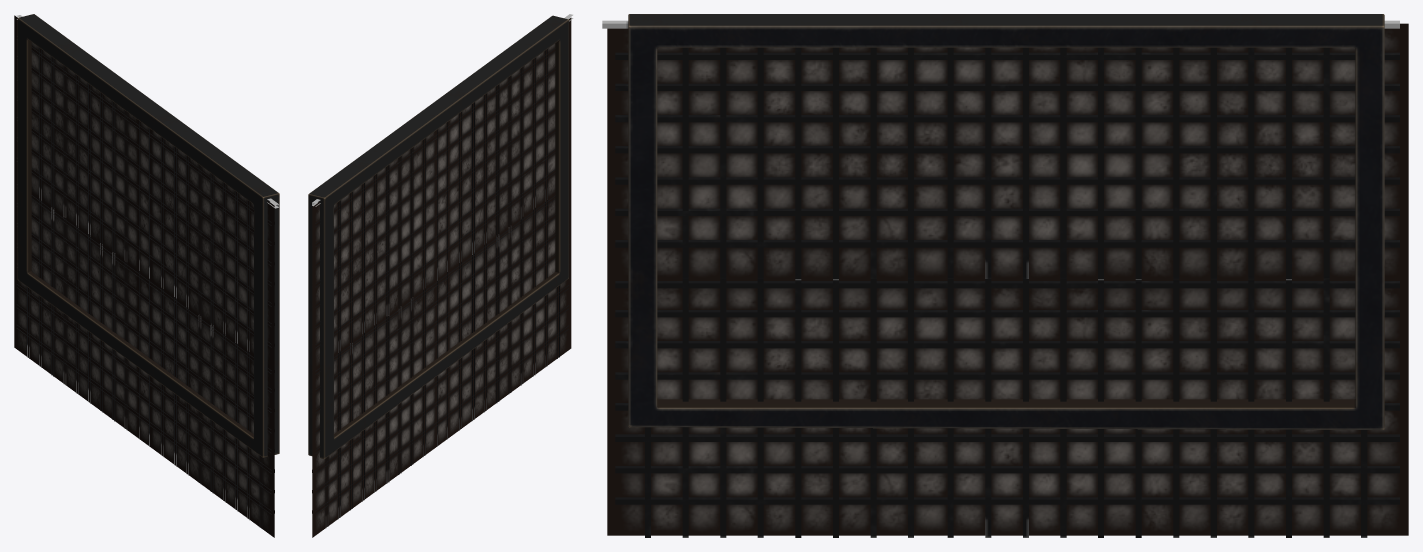
File: SM_Side_Back_Wall.fbx
3 views of the same model, side by side, from view 1: azimuth 30°, elevation 25°; view 2: azimuth 150°, elevation 25°; view 3: azimuth 270°, elevation 25° (orthographic). The views are drawn at different scales.
Parts seen in each view (by area): view 1: SM_Side_Back_Wall_LOD0; view 2: SM_Side_Back_Wall_LOD0; view 3: SM_Side_Back_Wall_LOD0.
Part boxes in pixels (<box>): SM_Side_Back_Wall_LOD0: <box>14,14,279,537</box>; SM_Side_Back_Wall_LOD0: <box>308,14,573,537</box>; SM_Side_Back_Wall_LOD0: <box>602,14,1408,537</box>.
Bounding box in the file's own units: 21.08 × 568 × 403.
